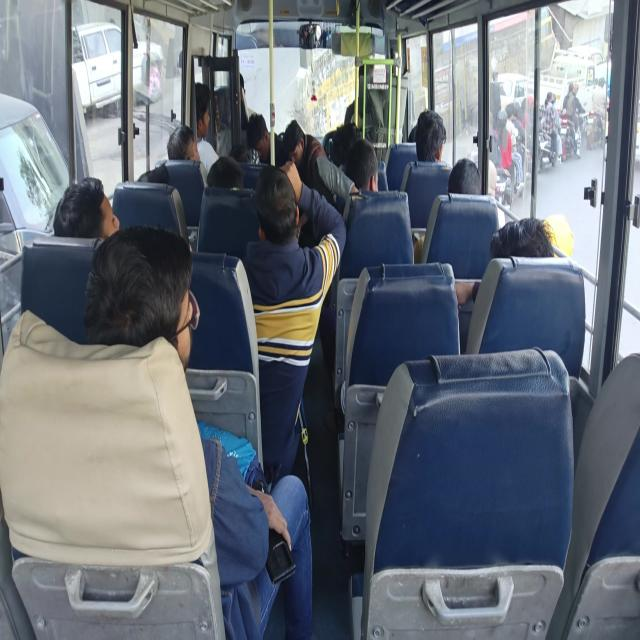person: (84, 224, 314, 638), (240, 160, 346, 487), (454, 216, 556, 306), (282, 119, 358, 203), (52, 176, 120, 240), (166, 124, 208, 186), (246, 111, 288, 168), (194, 82, 220, 174), (344, 138, 378, 193), (562, 81, 585, 157), (415, 109, 446, 163), (447, 157, 482, 195), (206, 155, 244, 189), (590, 76, 606, 146)
